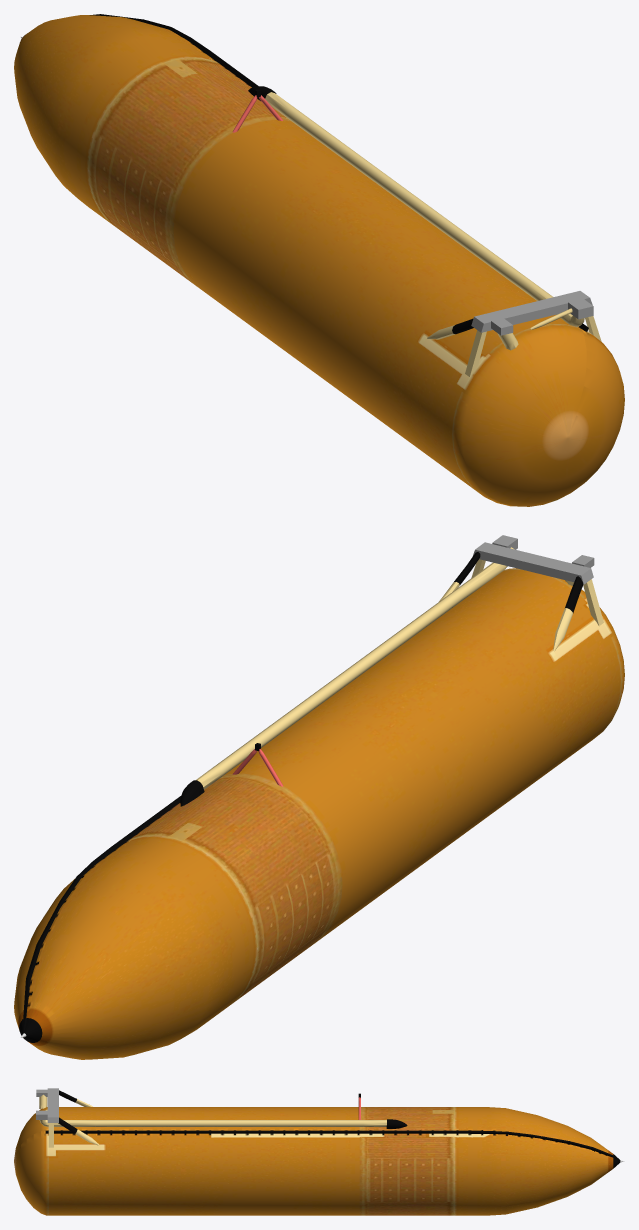
File: atlantis_tank.obj
The picture shows the model from 3 angles, top to bottom: view 1: azimuth 30°, elevation 25°; view 2: azimuth 150°, elevation 25°; view 3: azimuth 270°, elevation 25°; orthographic projection. The views are drawn at different scales.
Parts seen in each view (by area): view 1: group0, group12, group9, group2; view 2: group0, group12, group9, group2; view 3: group0, group12, group2, group9.
Boxes of the visible parts, x1,y1,x2,y2 form: group0: (14,15,624,506); group12: (265,92,584,327); group9: (471,291,592,332); group2: (90,14,588,331); group0: (14,568,624,1059); group12: (196,562,507,789); group9: (472,542,593,584); group2: (23,796,180,1018); group0: (14,1107,613,1215); group12: (39,1120,386,1126); group2: (45,1130,614,1157); group9: (47,1088,58,1122).
Size of the model in its own units: 8.4 by 9.91 by 47.13.
Materials: 6 (1 with a texture image).
